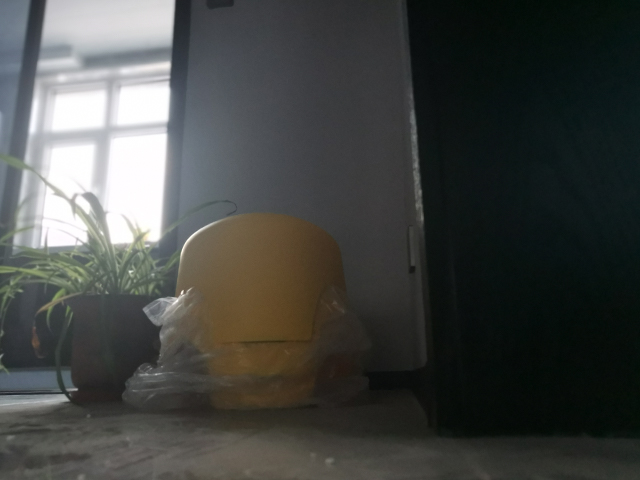stool: (172, 210, 355, 415)
